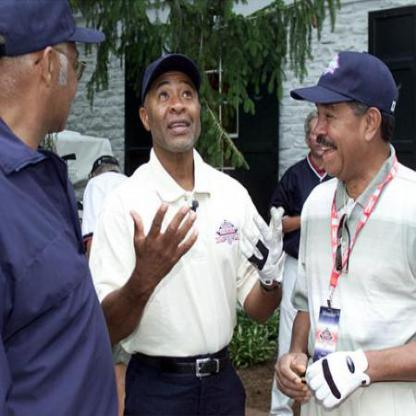face: (311, 61, 369, 179), (147, 58, 205, 156)
